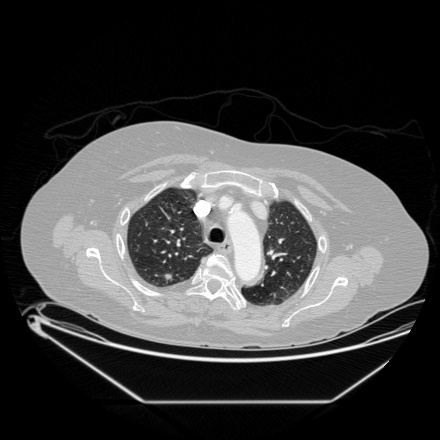PN: (164, 272, 172, 280)
